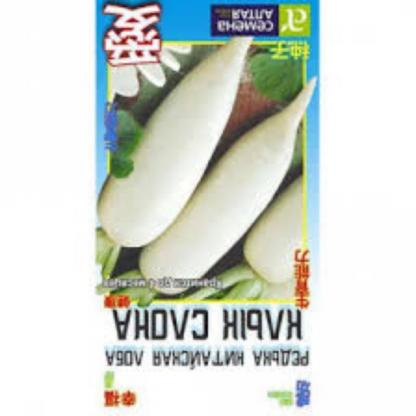redka: (145, 70, 320, 298), (101, 37, 249, 254), (236, 176, 308, 300)
